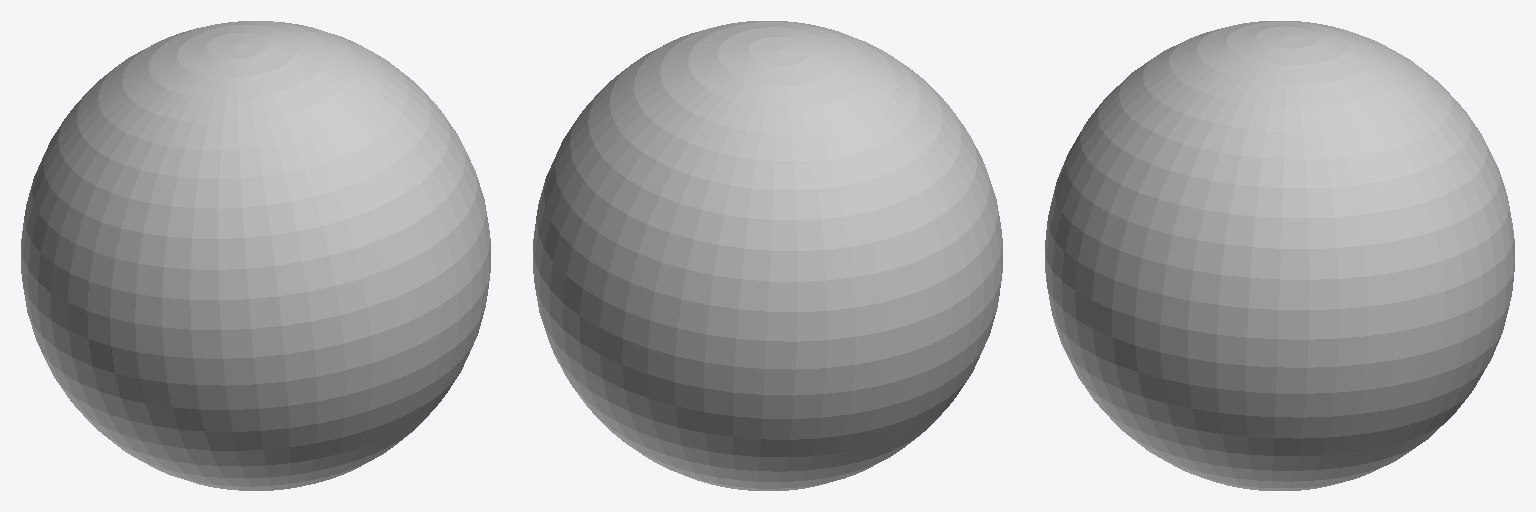
The model's file is ball2.obj.
3 renders of one model, left to right at view 1: azimuth 30°, elevation 25°; view 2: azimuth 150°, elevation 25°; view 3: azimuth 270°, elevation 25°, orthographic.
Visible parts, largest first — view 1: 球体; view 2: 球体; view 3: 球体.
Boxes of the visible parts, x1,y1,x2,y2 form: 球体: [21, 21, 490, 490]; 球体: [533, 21, 1002, 490]; 球体: [1045, 21, 1514, 490].
Size of the model in its own units: 76.68 by 76.72 by 76.77.